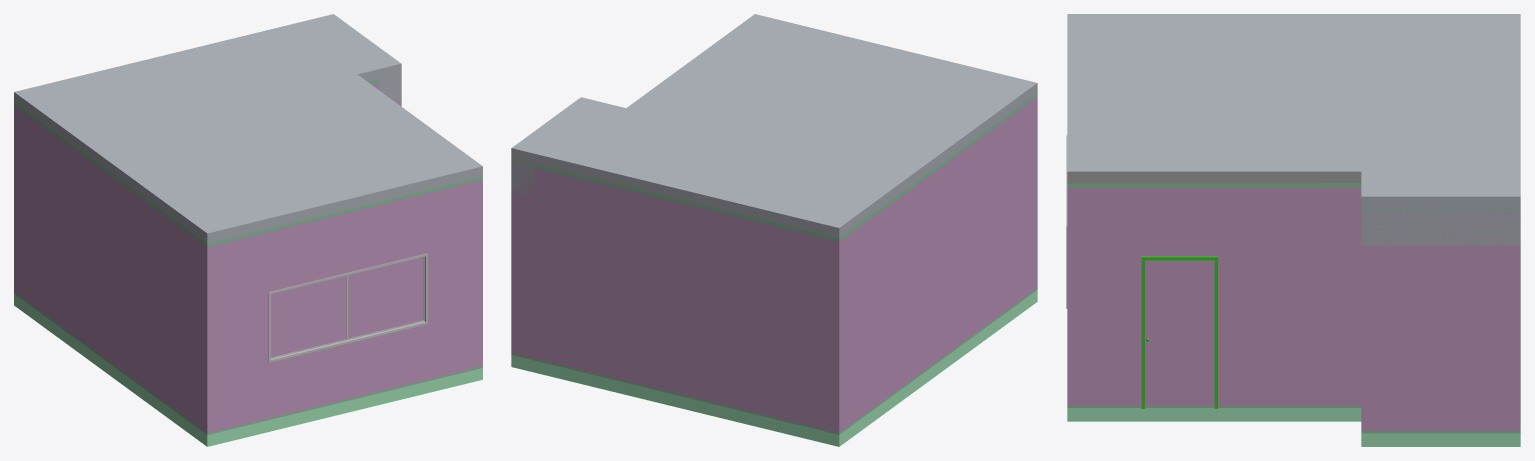
File: FloorPlan8_physics.fbx
The picture shows the model from 3 angles, left to right: view 1: azimuth 30°, elevation 25°; view 2: azimuth 150°, elevation 25°; view 3: azimuth 270°, elevation 25°; orthographic projection. The views are drawn at different scales.
Visible parts, largest first — view 1: StandardWallSize, Ceiling, Window, FloorMat, WindowFrame; view 2: StandardWallSize, Ceiling, FloorMat; view 3: StandardWallSize, Ceiling, FloorMat, StandardDoorFrame1.
Boxes of the visible parts, x1,y1,x2,y2 form: StandardWallSize: (14,79,482,434); Ceiling: (14,14,482,243); Window: (271,257,423,357); FloorMat: (14,294,482,446); WindowFrame: (268,253,427,362); StandardWallSize: (511,93,1037,434); Ceiling: (511,14,1037,238); FloorMat: (511,290,1037,446); StandardWallSize: (1067,183,1520,433); Ceiling: (1067,14,1520,245); FloorMat: (1067,408,1520,446); StandardDoorFrame1: (1141,256,1217,408).
Size of the model in its own units: 522 by 333 by 548.
